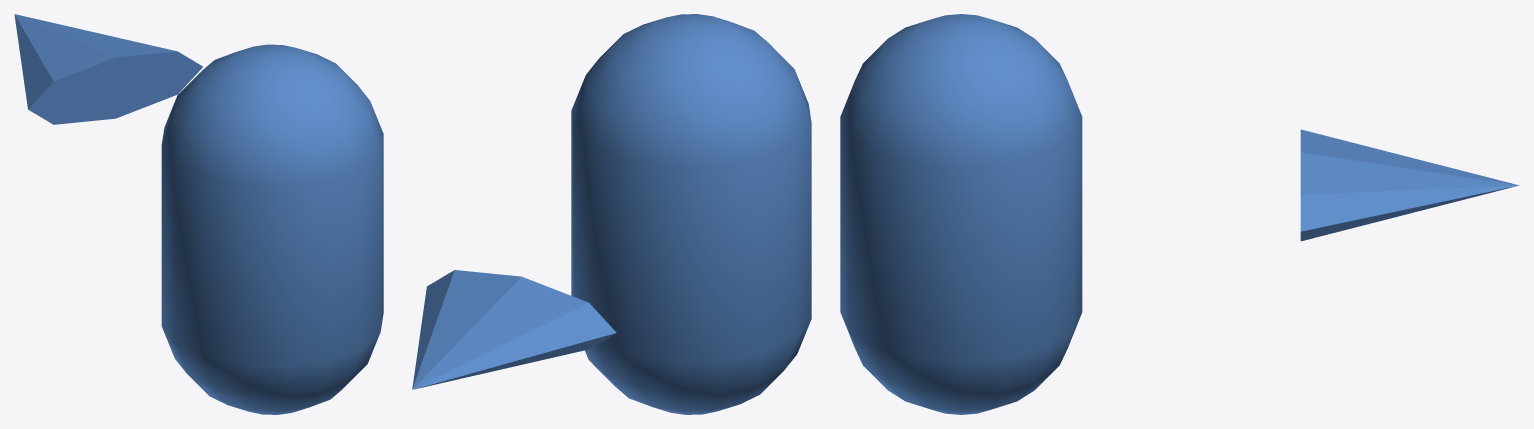
The model's file is player1.glb.
3 renders of one model, left to right at view 1: azimuth 30°, elevation 25°; view 2: azimuth 150°, elevation 25°; view 3: azimuth 270°, elevation 25°, orthographic. The views are drawn at different scales.
Parts seen in each view (by area): view 1: Sphere, Cone; view 2: Sphere, Cone; view 3: Sphere, Cone.
Part boxes in pixels (<box>): Sphere: <box>161,44,383,414</box>; Cone: <box>14,14,202,124</box>; Sphere: <box>571,14,811,414</box>; Cone: <box>412,270,616,389</box>; Sphere: <box>840,14,1082,414</box>; Cone: <box>1300,129,1519,241</box>.
Bounding box in the file's own units: 0.4004 × 0.6909 × 1.12.
